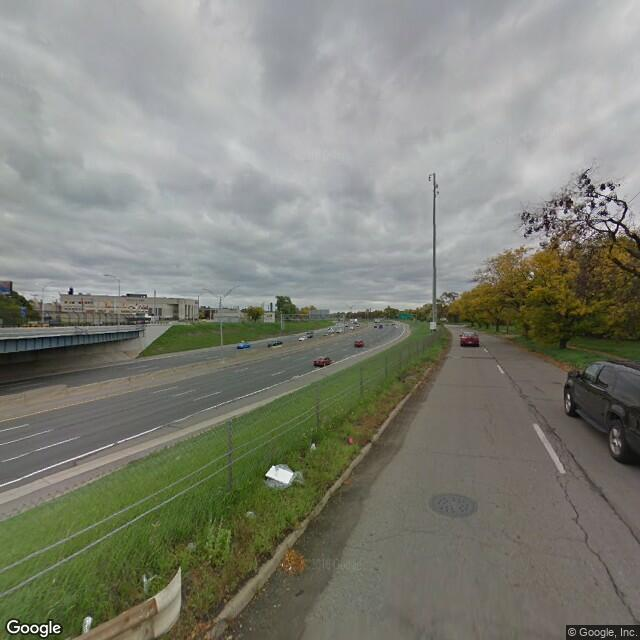litter: (264, 462, 295, 488), (143, 572, 155, 595), (83, 613, 93, 634), (244, 508, 257, 522), (308, 440, 319, 454), (347, 436, 353, 448)
